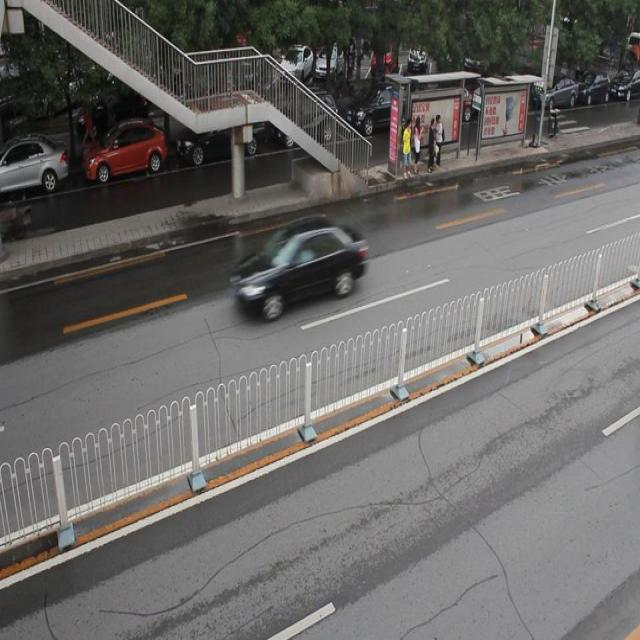car: (231, 215, 368, 318), (176, 93, 266, 163), (82, 123, 167, 178), (343, 78, 417, 138), (1, 137, 65, 197), (274, 92, 338, 147)
